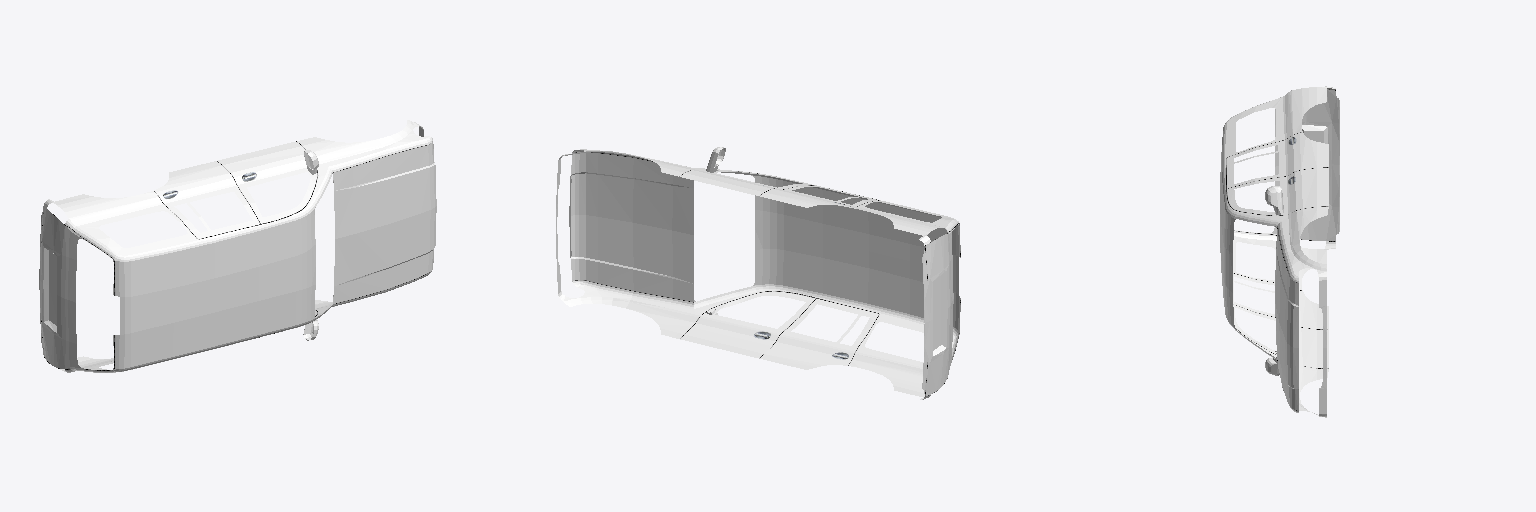
The picture shows the model from 3 angles: view 1: azimuth 30°, elevation 25°; view 2: azimuth 150°, elevation 25°; view 3: azimuth 270°, elevation 25°; orthographic projection.
Parts seen in each view (by area): view 1: 24_-_Default; view 2: 24_-_Default; view 3: 24_-_Default.
Boxes of the visible parts, <box> form: 24_-_Default: <box>39,120,436,372</box>; 24_-_Default: <box>556,147,960,399</box>; 24_-_Default: <box>1220,86,1339,417</box>.
Bounding box in the file's own units: 4.59 × 2.18 × 1.26.
Materials: 1 (1 with a texture image).